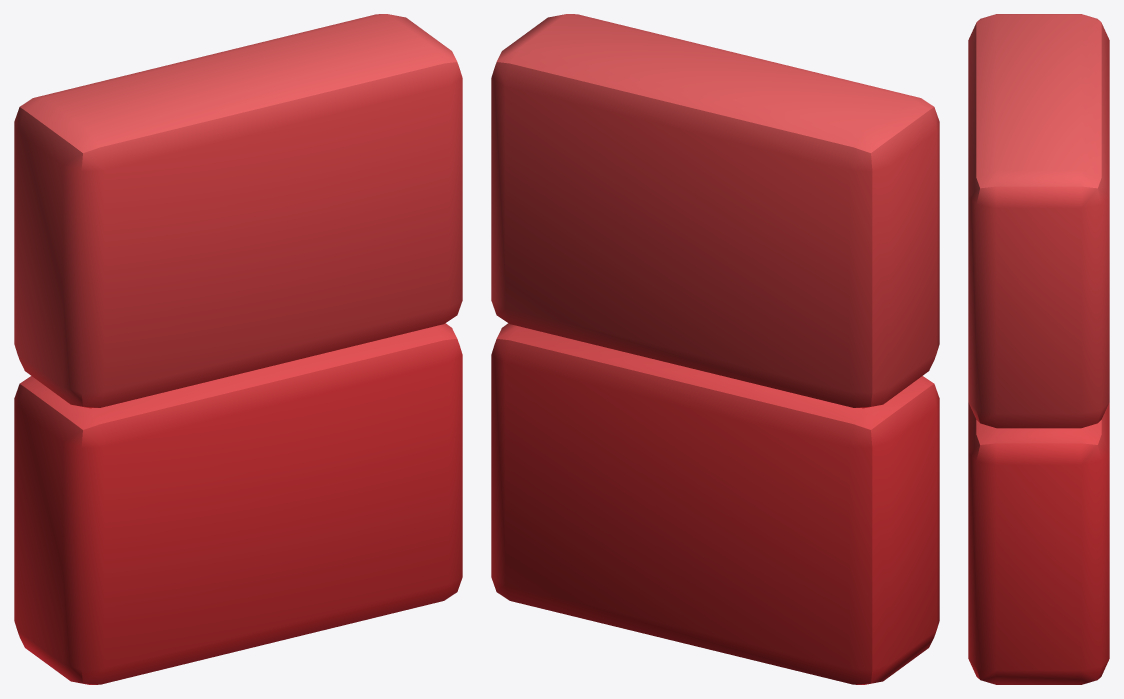
Rendered from barrier_3x1x4_red.glb.
3 renders of one model, left to right at view 1: azimuth 30°, elevation 25°; view 2: azimuth 150°, elevation 25°; view 3: azimuth 270°, elevation 25°, orthographic. The views are drawn at different scales.
Visible parts, largest first — view 1: barrier_3x1x4_red; view 2: barrier_3x1x4_red; view 3: barrier_3x1x4_red.
Part boxes in pixels (box(x1,y1,x2,y2)): barrier_3x1x4_red: box(14, 14, 462, 684); barrier_3x1x4_red: box(491, 14, 939, 684); barrier_3x1x4_red: box(968, 14, 1109, 684).
Bounding box in the file's own units: 3 × 4 × 1.
Materials: 1 (1 with a texture image).
